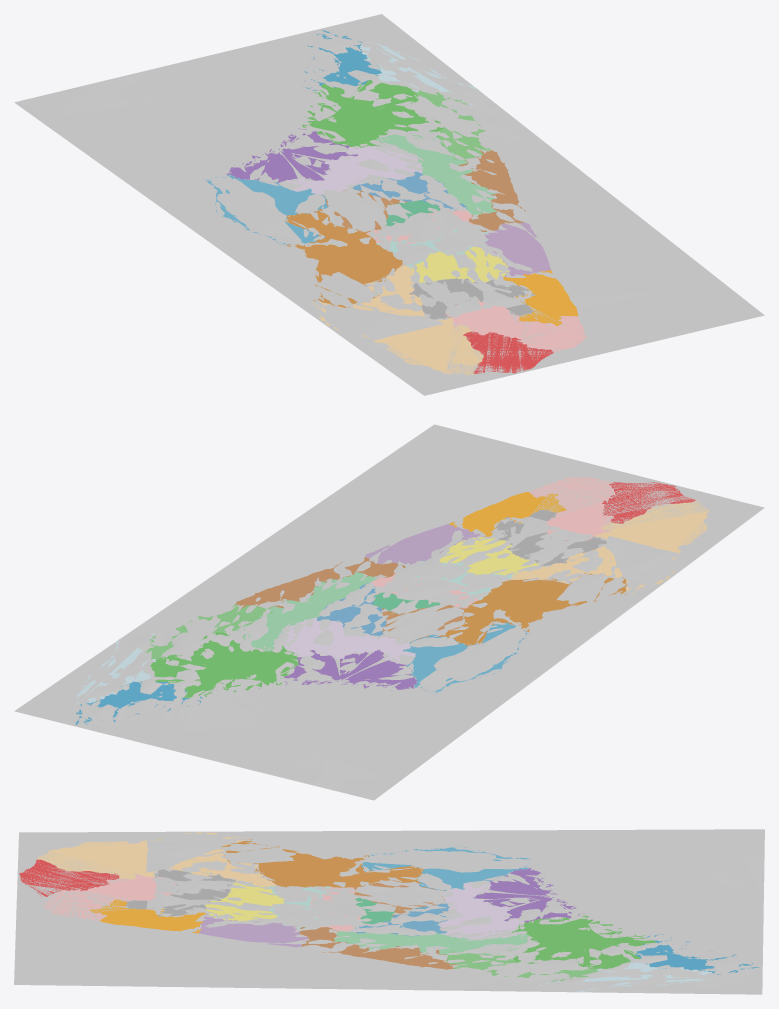
Rendered from madagascar_adm1.glb.
3 views of the same model, one above another, from view 1: azimuth 30°, elevation 25°; view 2: azimuth 150°, elevation 25°; view 3: azimuth 270°, elevation 25° (orthographic). The views are drawn at different scales.
Parts seen in each view (by area): view 1: TERRAIN_MDG, Atsimo-Andrefana, Sofia, Menabe, Anosy, Betsiboka, Alaotra-Mangoro, Boeny, Androy, Atsimo-Atsinanana, Atsinanana, Vatovavy-Fitovinany (+7 smaller); view 2: TERRAIN_MDG, Atsimo-Andrefana, Sofia, Menabe, Anosy, Betsiboka, Alaotra-Mangoro, Boeny, Androy, Atsimo-Atsinanana, Atsinanana, Vatovavy-Fitovinany (+7 smaller); view 3: TERRAIN_MDG, Atsimo-Andrefana, Sofia, Menabe, Anosy, Betsiboka, Alaotra-Mangoro, Boeny, Androy, Atsinanana, Atsimo-Atsinanana, Vatovavy-Fitovinany (+11 smaller).
Part boxes in pixels (x1=…): TERRAIN_MDG: x1=14, y1=14, x2=764, y2=395; Atsimo-Andrefana: x1=312, y1=265, x2=483, y2=375; Sofia: x1=302, y1=80, x2=442, y2=148; Menabe: x1=284, y1=210, x2=404, y2=307; Anosy: x1=445, y1=300, x2=587, y2=352; Betsiboka: x1=279, y1=146, x2=422, y2=194; Alaotra-Mangoro: x1=376, y1=134, x2=496, y2=214; Boeny: x1=225, y1=128, x2=357, y2=182; Androy: x1=463, y1=331, x2=553, y2=373; Atsimo-Atsinanana: x1=503, y1=270, x2=577, y2=325; Atsinanana: x1=459, y1=150, x2=525, y2=231; Vatovavy-Fitovinany: x1=484, y1=222, x2=550, y2=277; TERRAIN_MDG: x1=14, y1=424, x2=764, y2=800; Atsimo-Andrefana: x1=510, y1=500, x2=709, y2=594; Sofia: x1=150, y1=629, x2=298, y2=697; Menabe: x1=443, y1=573, x2=627, y2=645; Anosy: x1=529, y1=477, x2=615, y2=541; Betsiboka: x1=282, y1=617, x2=415, y2=664; Alaotra-Mangoro: x1=236, y1=572, x2=376, y2=651; Boeny: x1=284, y1=649, x2=417, y2=690; Androy: x1=602, y1=482, x2=695, y2=523; Atsimo-Atsinanana: x1=449, y1=491, x2=566, y2=536; Atsinanana: x1=235, y1=557, x2=405, y2=608; Vatovavy-Fitovinany: x1=365, y1=524, x2=485, y2=564; TERRAIN_MDG: x1=14, y1=829, x2=764, y2=994; Atsimo-Andrefana: x1=37, y1=832, x2=275, y2=886; Sofia: x1=503, y1=915, x2=656, y2=968; Menabe: x1=221, y1=839, x2=423, y2=887; Anosy: x1=41, y1=874, x2=178, y2=920; Betsiboka: x1=439, y1=881, x2=524, y2=939; Alaotra-Mangoro: x1=334, y1=931, x2=528, y2=955; Boeny: x1=473, y1=868, x2=584, y2=922; Androy: x1=19, y1=859, x2=119, y2=896; Atsinanana: x1=299, y1=927, x2=457, y2=969; Atsimo-Atsinanana: x1=90, y1=899, x2=205, y2=933; Vatovavy-Fitovinany: x1=199, y1=914, x2=308, y2=947.
Bounding box in the file's own units: 795751 × 3127 × 1526649.
